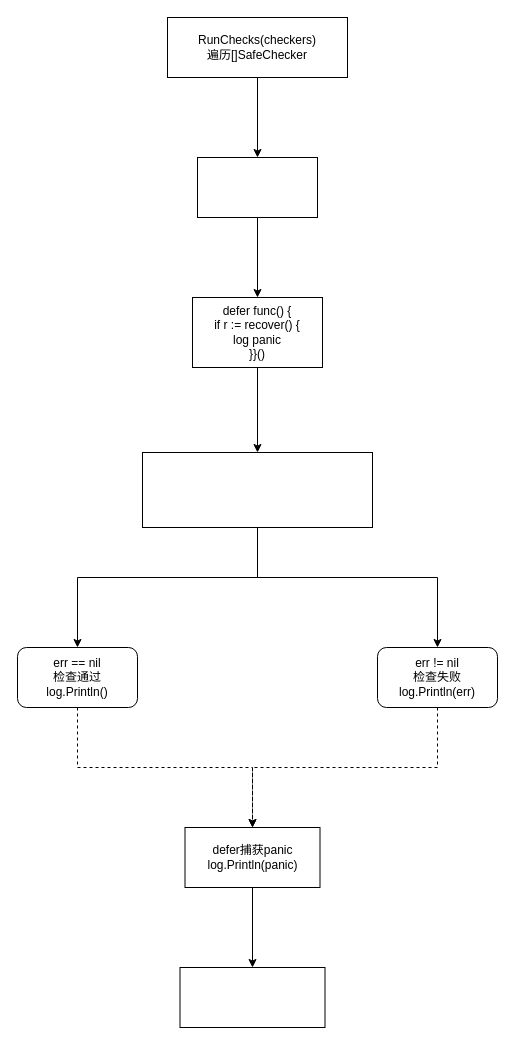
Some shapes in this 515 by 1045 pixel diagram are drawn without their labels. The shapes that lost their labels are listed below. From the top down, each one's box as (x1, y1, x2, y2) in pixels, then its label:
(196, 156, 318, 218): 取出一个接口 sc
(142, 452, 372, 528): sc.Check() HTTPCheck/TCPCheck/MockCheck
(179, 966, 325, 1028): 继续下一个接口循环
